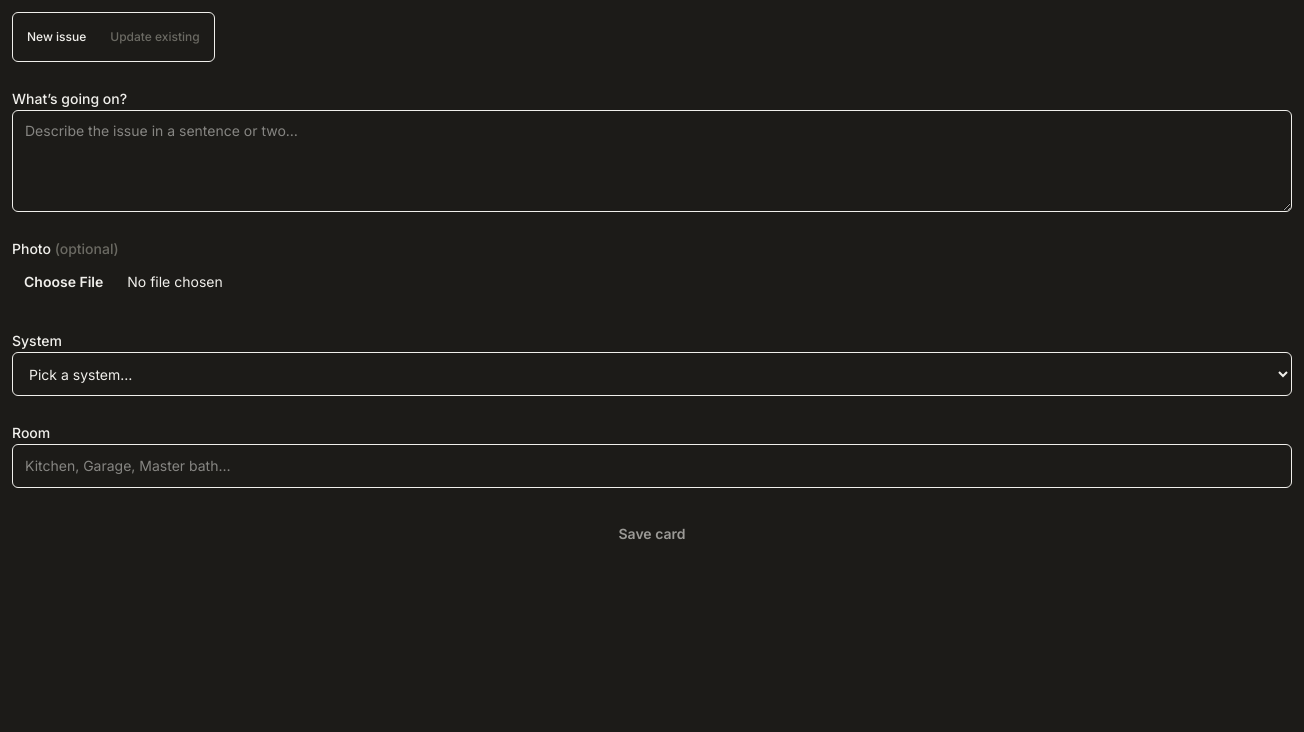
Scenario: <CaptureForm /> › Update existing toggle shows the non-blocking notice and hides the form
Click the button "Update existing" at (155, 37), box 98,15 -> 212,59
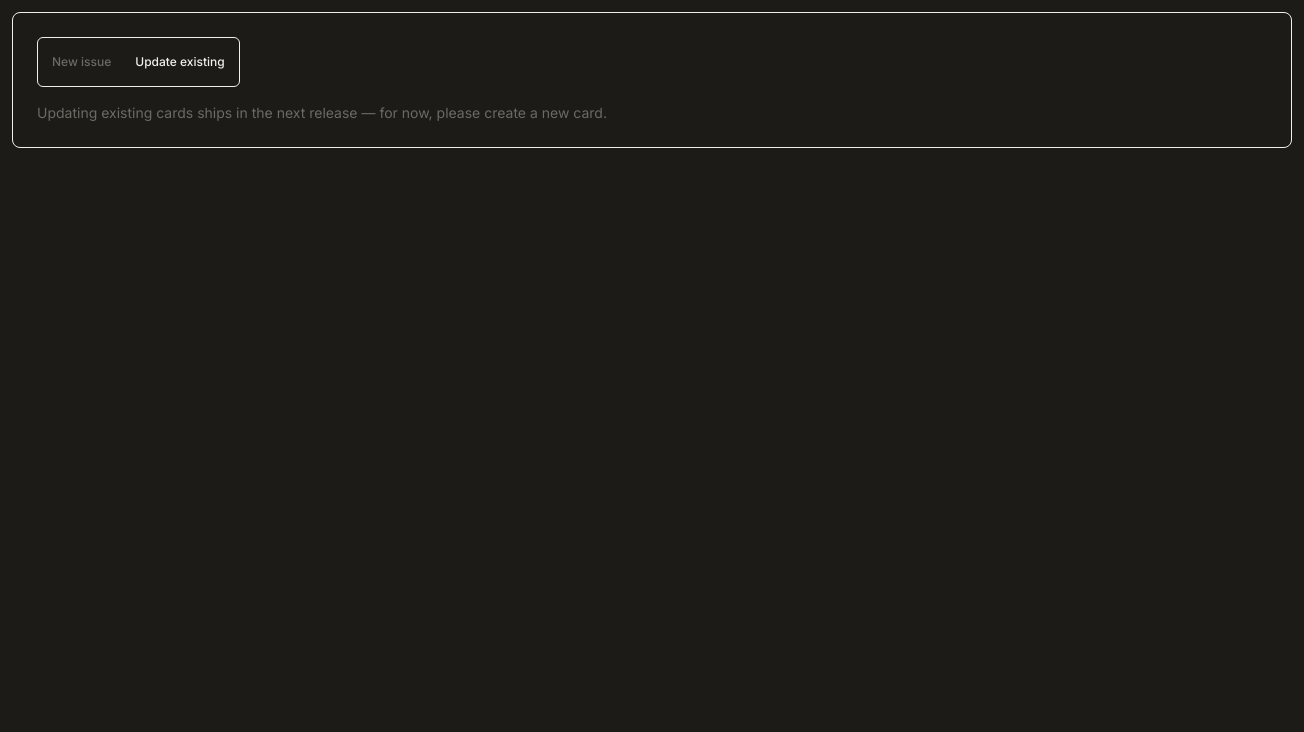
Check: the text "Updating existing cards ships in the next release" is shown, box 37,104 -> 607,121
Check: the button "Save card" is gone
